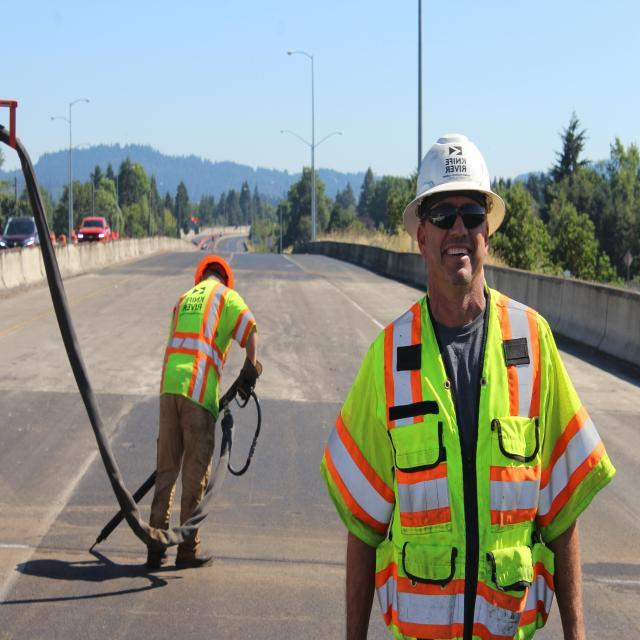reflective_jacket: (318, 292, 610, 639), (154, 282, 258, 422)
safety_helmet: (400, 125, 508, 235), (190, 249, 236, 285)
